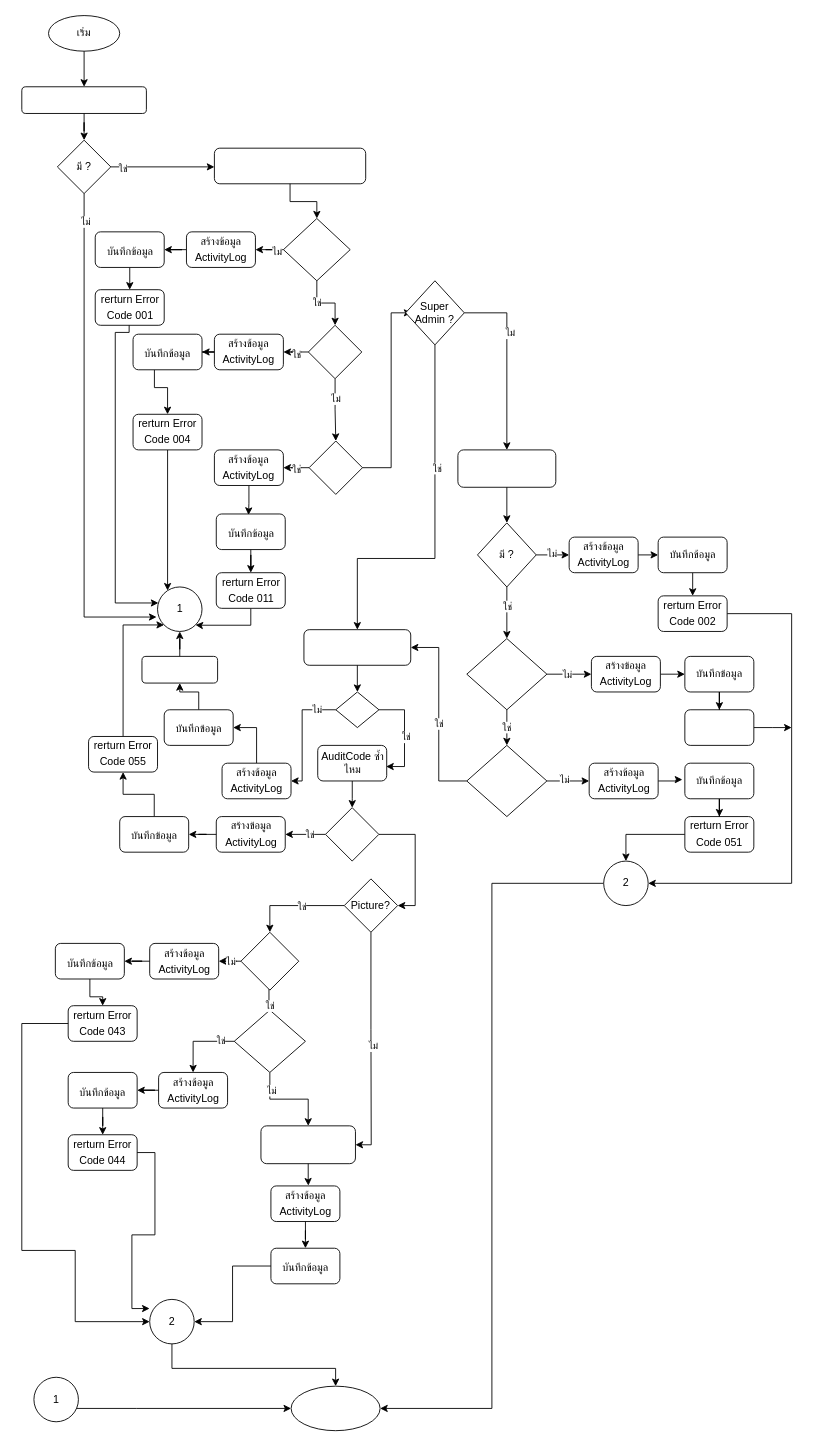
This 814x1446 diagram has some shape labels left out. Here are the shapes that lost their labels. From the top down, the centre of each, then its label:
At (x=83, y=99): "ตรวจสอบสิทธิ์การใช้งาน".
At (x=290, y=165): "ตรวจสอบ Account สถานะการใช้งาน".
At (x=316, y=249): "มีใน ระบบ ?".
At (x=334, y=351): "status = 1 ?".
At (x=335, y=467): "Locked = 1 ?".
At (x=506, y=468): "ตรวจสอบสิทธิ์การใช้งาน Company นี้ไหม".
At (x=357, y=647): "ดึงข้อมูลนักลงทุนสัมพันธ์".
At (x=179, y=669): "return Error code 050".
At (x=506, y=674): "Company มีในระบบ ไหม ?".
At (x=357, y=709): "มี?".
At (x=719, y=727): "rerturn Error Code 007".
At (x=506, y=780): "Company Active ?".
At (x=352, y=834): "ซ้ำ ?".
At (x=269, y=960): "ไฟล รูปภาพ ?".
At (x=269, y=1040): "ขนาดไฟล > 50mb ?".
At (x=307, y=1144): "แก้ไขข้อมูลนักลงทุนสัมพันธ์".
At (x=335, y=1408): "สิ้นสุด".
